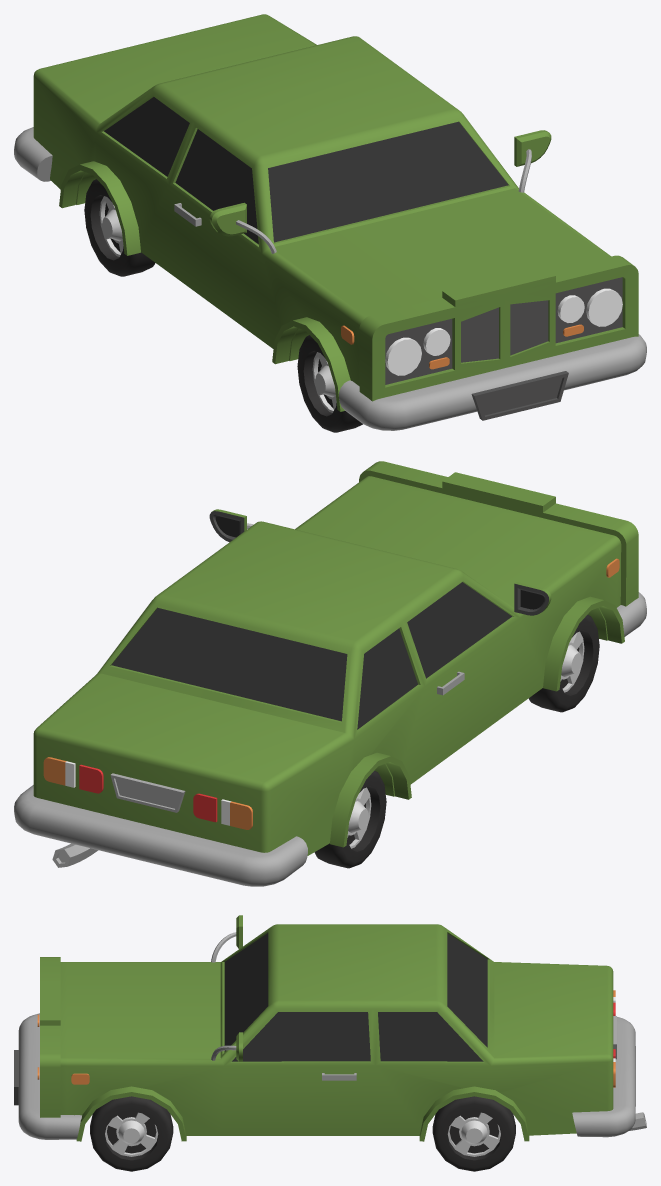
Rendered from CarroA.fbx.
3 views of the same model, one above another, from view 1: azimuth 30°, elevation 25°; view 2: azimuth 150°, elevation 25°; view 3: azimuth 270°, elevation 25° (orthographic). The views are drawn at different scales.
Parts seen in each view (by area): view 1: Carro, RodaTraDir, RodaFrenteDir; view 2: Carro, RodaTraDir, RodaFrenteDir; view 3: Carro, RodaTraEsq, RodaFrenteEsq.
Part boxes in pixels (x1,y1,x2,y2): Carro: (14,14,646,430); RodaTraDir: (84,179,155,276); RodaFrenteDir: (297,335,362,432); Carro: (14,461,646,886); RodaTraDir: (314,770,386,868); RodaFrenteDir: (528,614,599,712); Carro: (14,915,646,1141); RodaTraEsq: (432,1096,515,1171); RodaFrenteEsq: (90,1096,173,1171).
Size of the model in its own units: 265 by 149 by 532.
